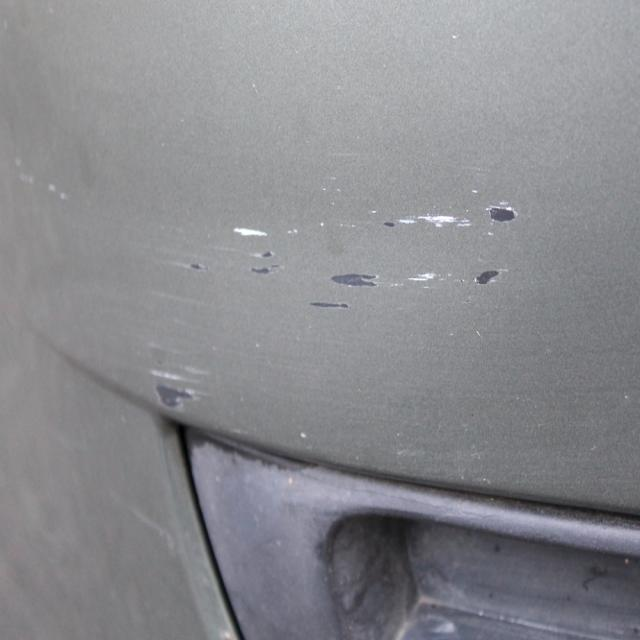scratch: (149, 194, 524, 419)
